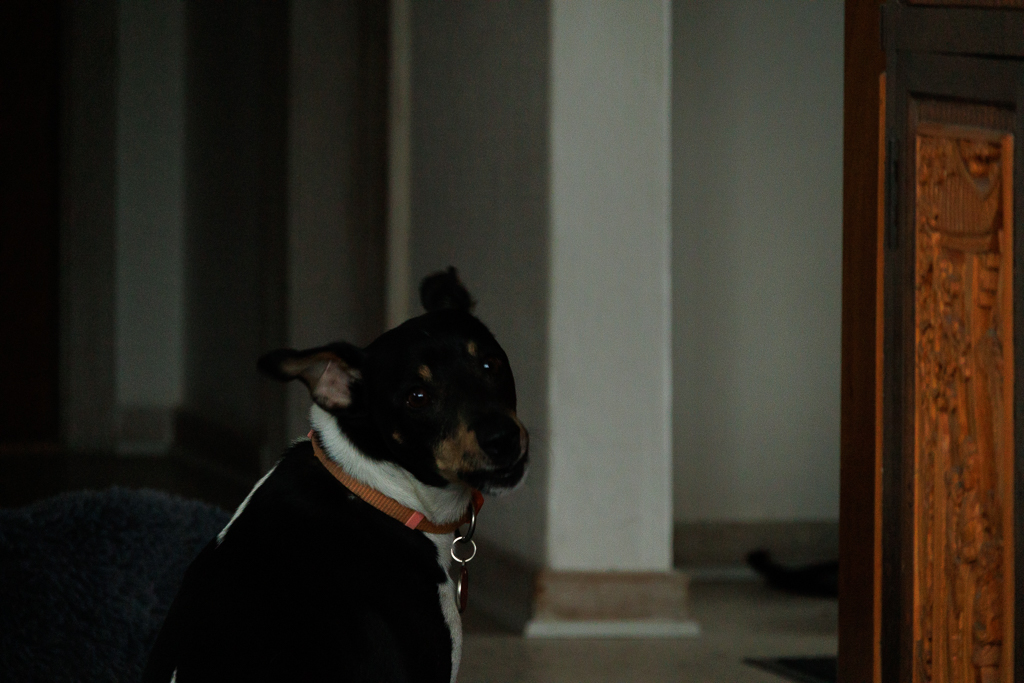Dog: (123, 262, 550, 683)
